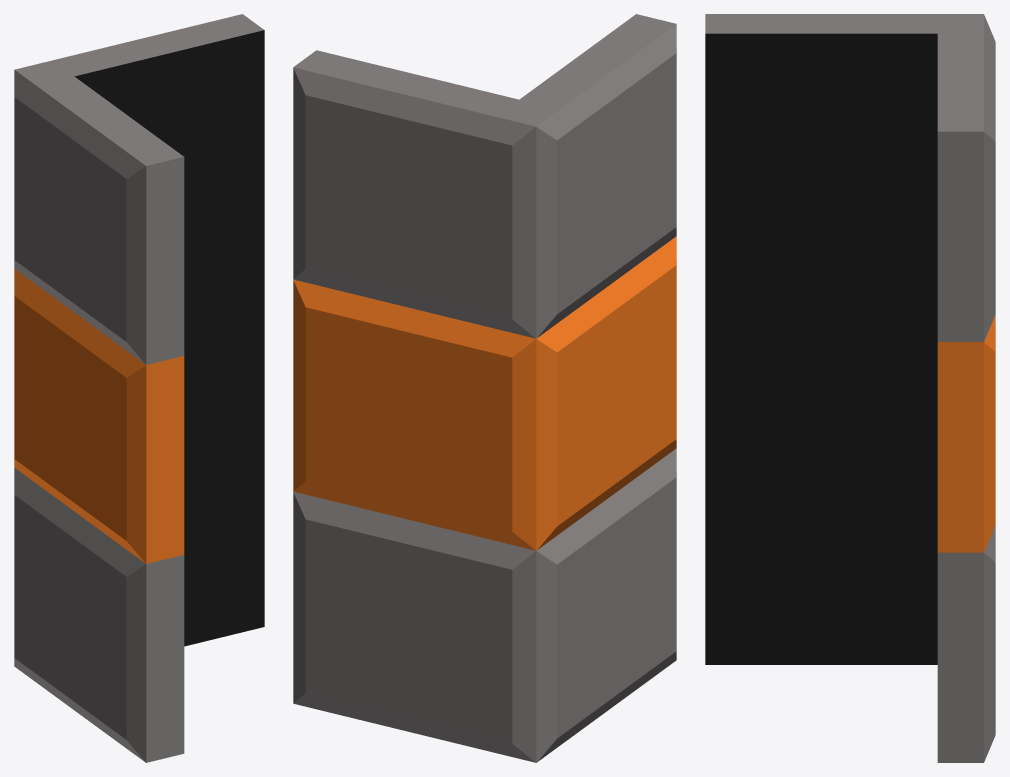
File: scifi_scifi-wall-edge-stripe.fbx
3 views of the same model, side by side, from view 1: azimuth 30°, elevation 25°; view 2: azimuth 150°, elevation 25°; view 3: azimuth 270°, elevation 25° (orthographic). The views are drawn at different scales.
Parts seen in each view (by area): view 1: scifi_scifi_wall_edge_stripe; view 2: scifi_scifi_wall_edge_stripe; view 3: scifi_scifi_wall_edge_stripe.
Part boxes in pixels (<box>): scifi_scifi_wall_edge_stripe: <box>14,14,264,762</box>; scifi_scifi_wall_edge_stripe: <box>293,14,676,762</box>; scifi_scifi_wall_edge_stripe: <box>705,14,995,762</box>.
Bounding box in the file's own units: 83.33 × 200 × 83.33.
